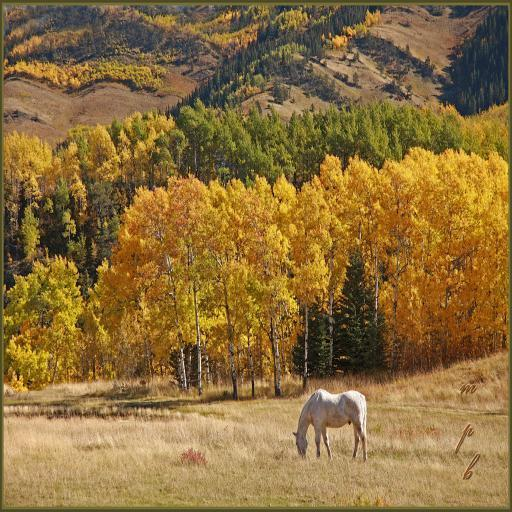horse: (290, 388, 366, 466)
